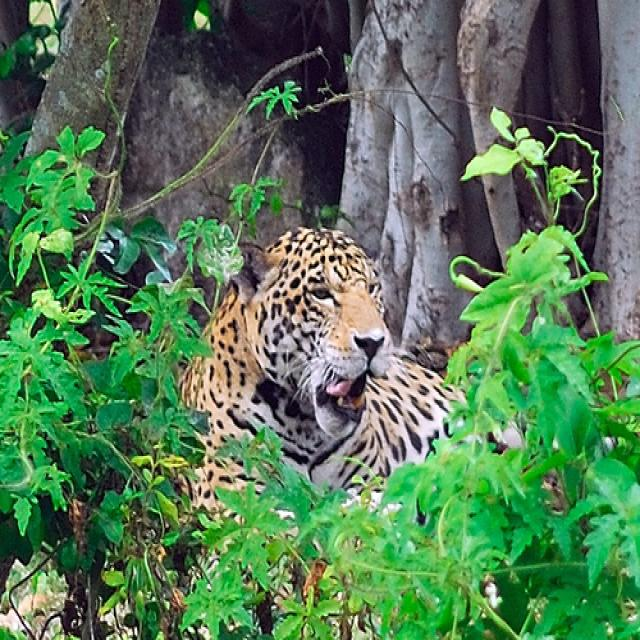Leopard: (181, 227, 464, 514)
